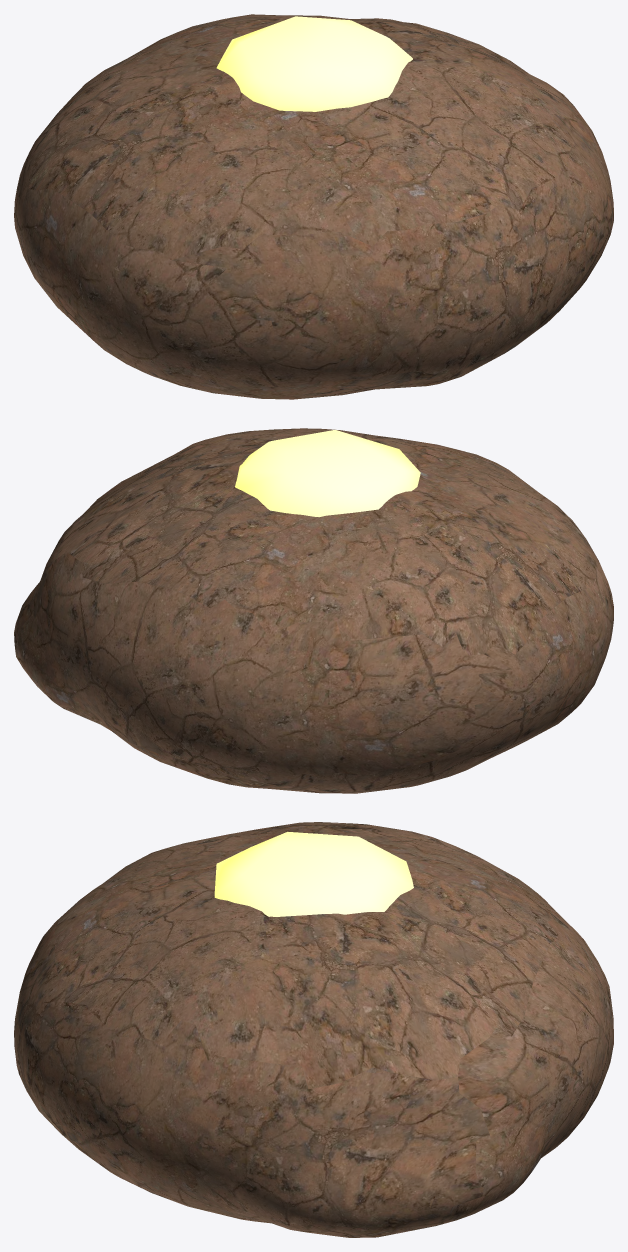
File: vent.glb
The picture shows the model from 3 angles, top to bottom: view 1: azimuth 30°, elevation 25°; view 2: azimuth 150°, elevation 25°; view 3: azimuth 270°, elevation 25°; orthographic projection. The views are drawn at different scales.
Visible parts, largest first — view 1: vent, vent_h; view 2: vent, vent_h; view 3: vent, vent_h.
Part boxes in pixels (box(x1,y1,x2,y2)): vent: box(14, 14, 613, 399); vent_h: box(216, 16, 412, 111); vent: box(14, 428, 613, 793); vent_h: box(235, 430, 420, 517); vent: box(14, 822, 613, 1237); vent_h: box(214, 831, 413, 916).
Bounding box in the file's own units: 2.68 × 1.48 × 2.49.
Materials: 2 (1 with a texture image).
